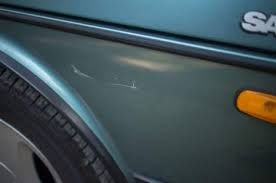scratch: (66, 62, 143, 86)
